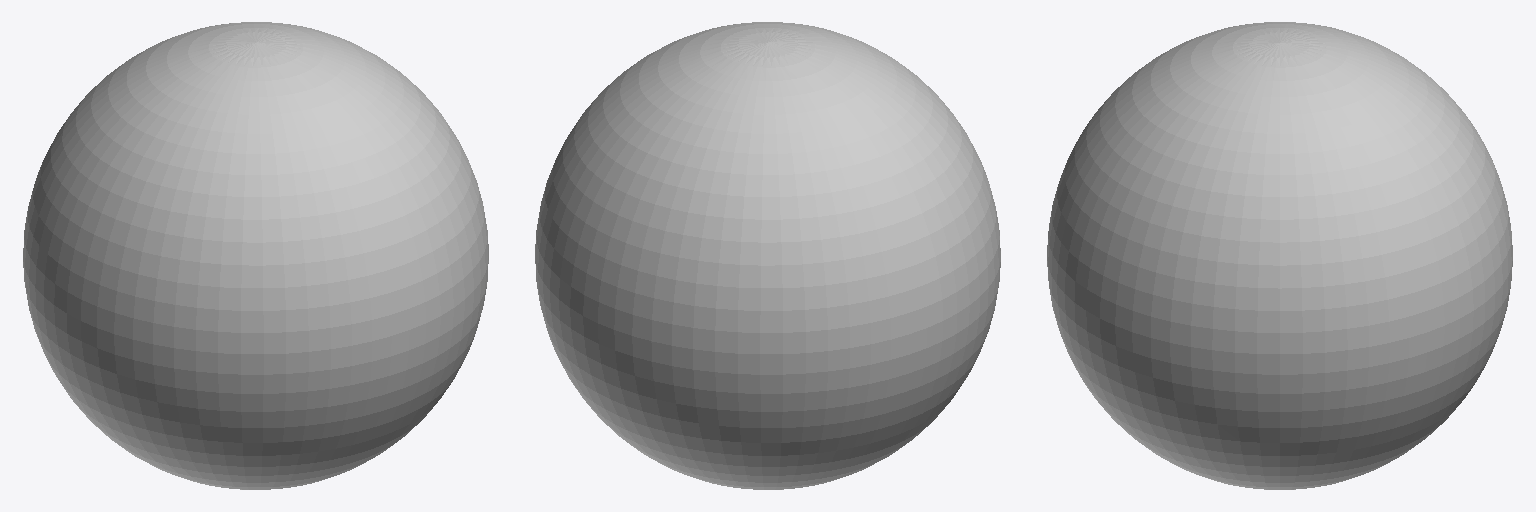
Rendered from earth.obj.
3 renders of one model, left to right at view 1: azimuth 30°, elevation 25°; view 2: azimuth 150°, elevation 25°; view 3: azimuth 270°, elevation 25°, orthographic.
Visible parts, largest first — view 1: Earth; view 2: Earth; view 3: Earth.
Boxes of the visible parts, x1=… form: Earth: x1=23, y1=22, x2=488, y2=489; Earth: x1=535, y1=22, x2=1000, y2=489; Earth: x1=1047, y1=22, x2=1512, y2=489.
Bounding box in the file's own units: 0.715 × 0.7225 × 0.715.